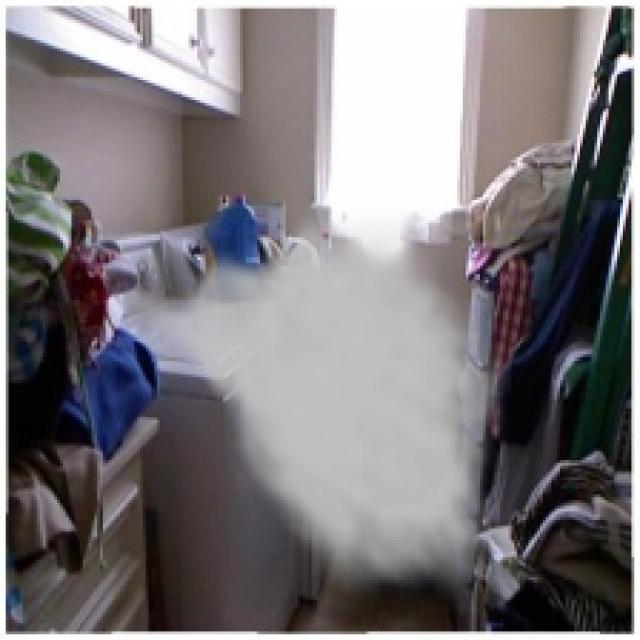smoke: (109, 206, 512, 617)
